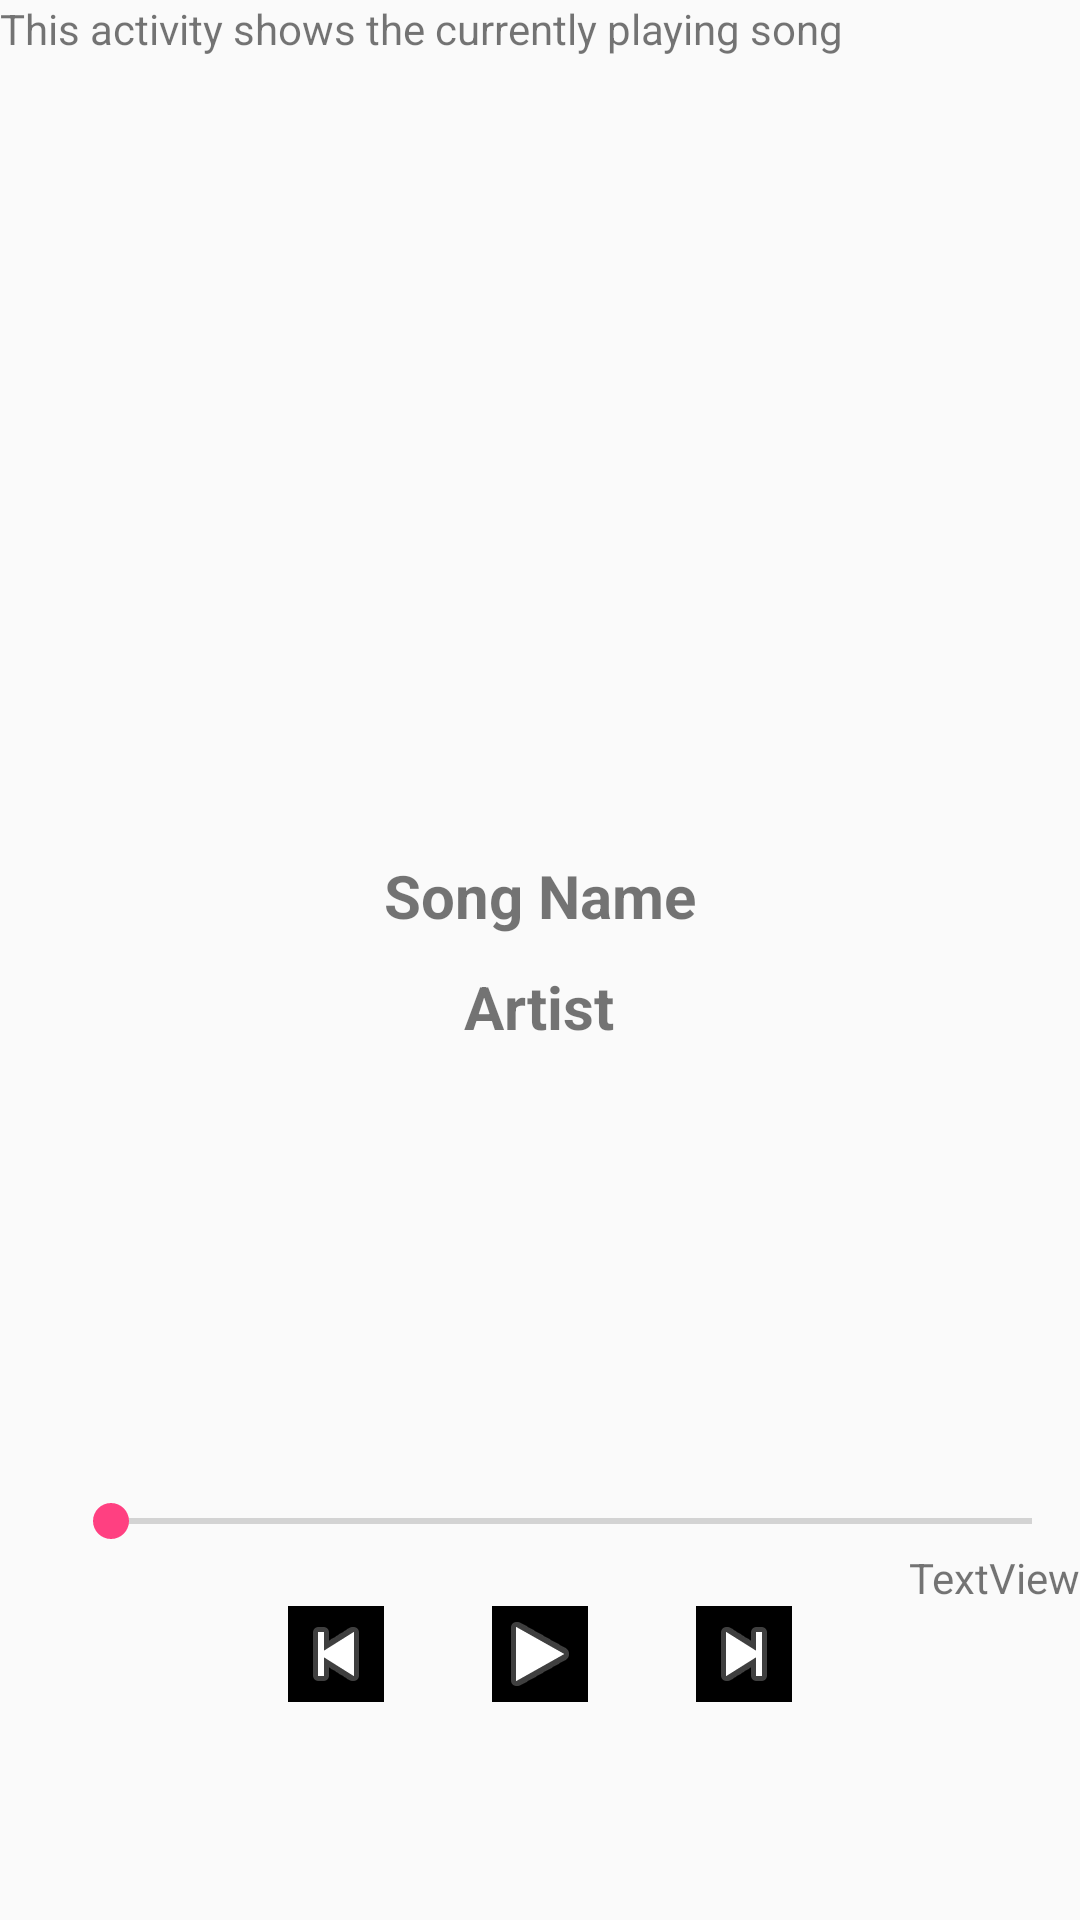

Screen size 1080w x 1920h. Icon name, then its box in pixels as (x1, y1, x2, y2):
next: (696, 1606, 792, 1702)
play: (492, 1606, 588, 1702)
previous: (288, 1606, 384, 1702)
